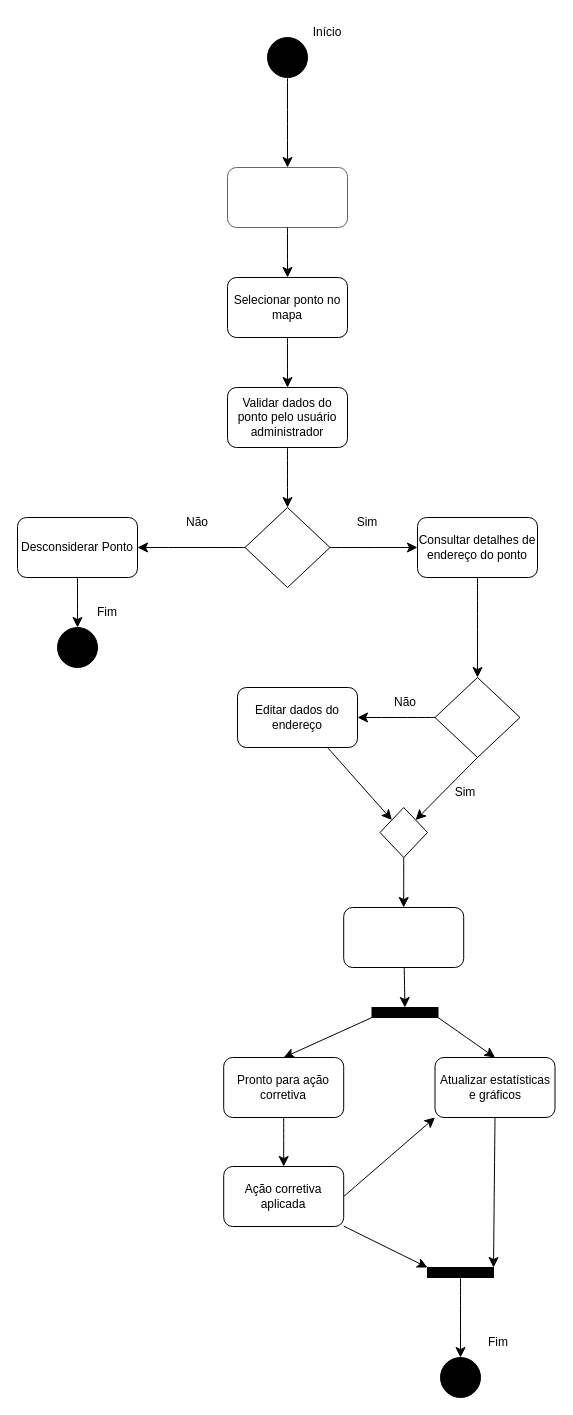
Image size: 573x1415. Some labels were removed from this diagram. The shapes that lost their labels are listed below. From the top down, each one's centre as x and y in pixels, then its label:
(287,197): Cadastrar ponto de f oco de dengue
(287,547): É válido?
(477,717): Dados corretos?
(403,937): Salvar ponto de foco
